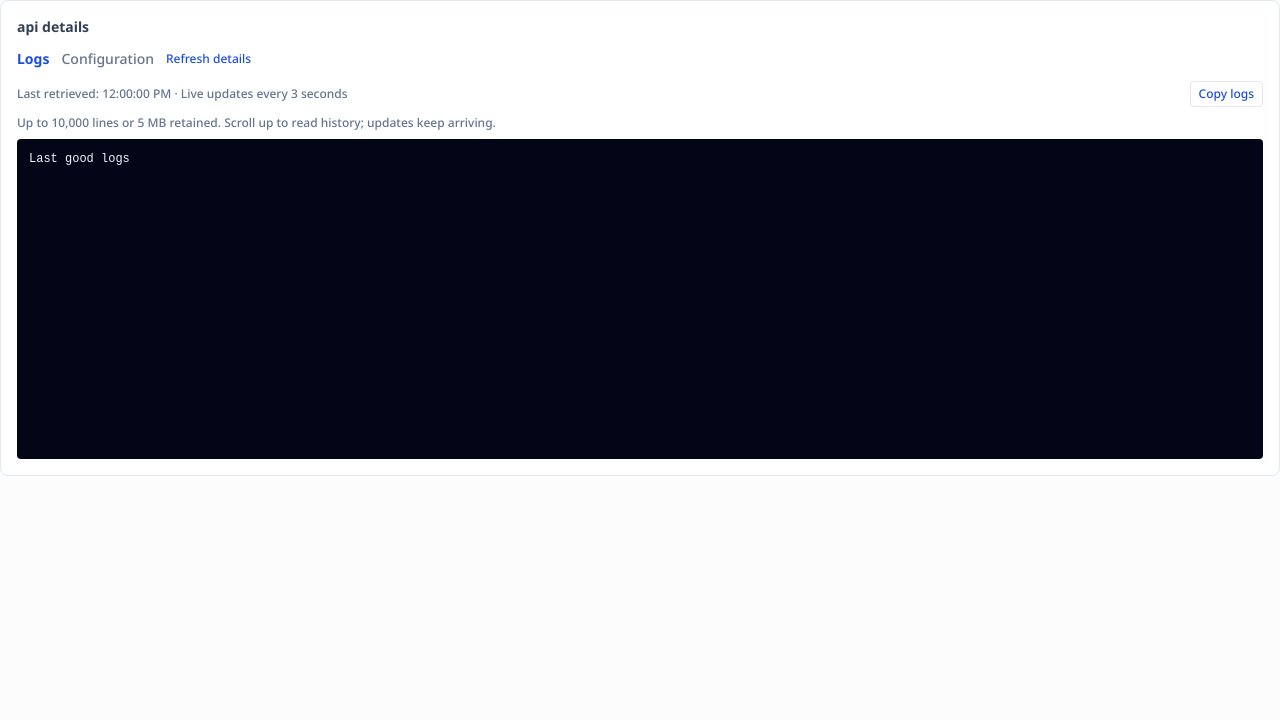
Test: shows log retrieval time and preserves the last result on refresh failure
The width and height of the screenshot is (1280, 720).
Expected: the text "Last good logs" is shown, x1=29 y1=152 x2=130 y2=166
Expected: the text "Last retrieved: 12:00:00 PM · Live updates every 3 seconds" is shown, x1=17 y1=86 x2=348 y2=102
Click the button "Refresh details" at (209, 59), box x1=166 y1=51 x2=251 y2=67
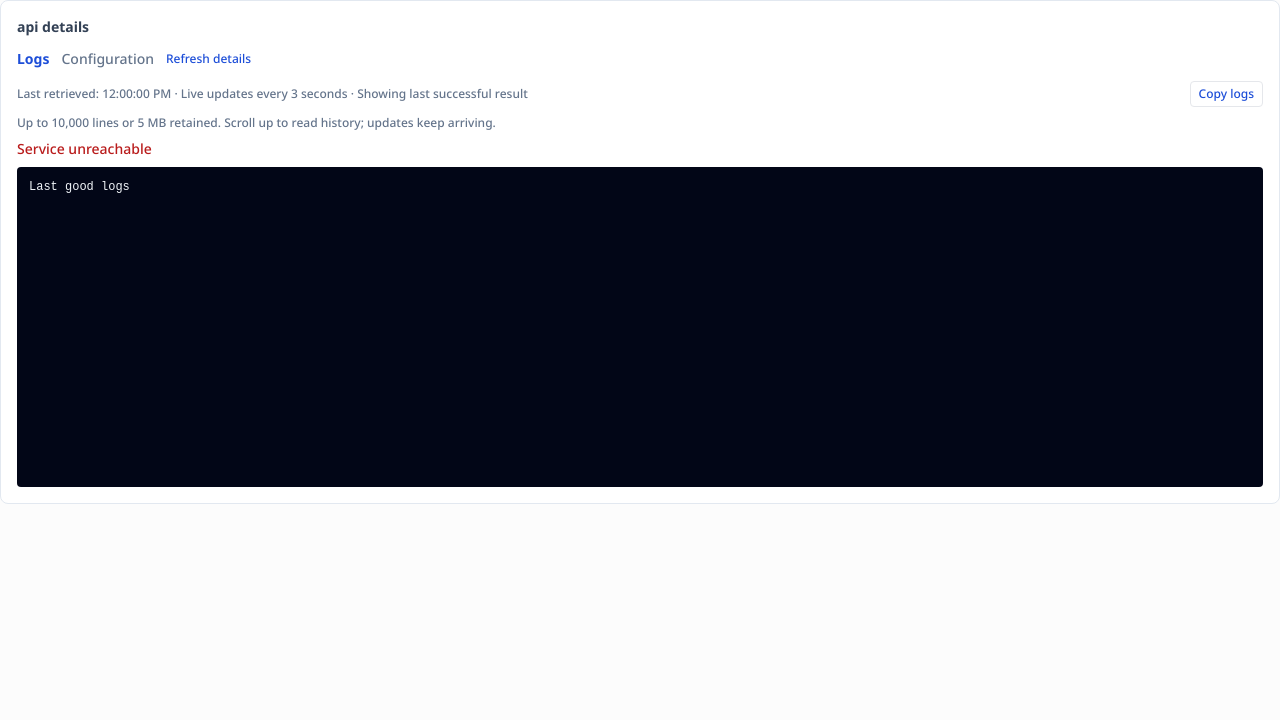
Expected: the text "Last good logs" is shown, x1=29 y1=180 x2=130 y2=194
Expected: the text "Service unreachable" is shown, x1=17 y1=139 x2=152 y2=158
Expected: the text "Showing last successful result" is shown, x1=348 y1=85 x2=528 y2=102
